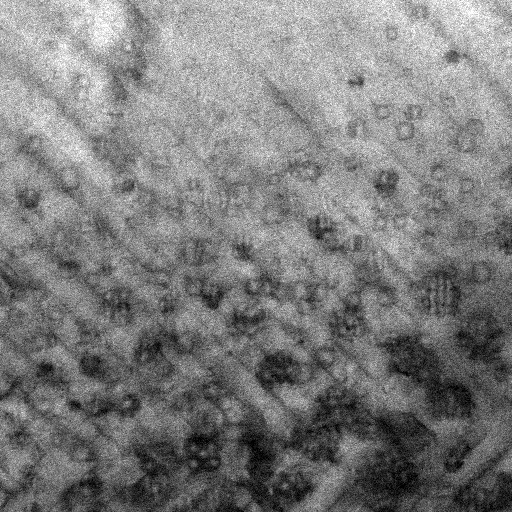y2o3_appleGreen: (53, 255, 89, 282), (77, 353, 104, 379), (438, 45, 463, 68), (110, 175, 137, 196), (33, 360, 57, 381), (64, 398, 87, 414), (99, 110, 127, 118)
y2o3_green: (307, 382, 381, 445), (355, 447, 426, 508), (374, 331, 443, 391), (275, 414, 345, 467), (408, 261, 463, 322), (452, 308, 507, 366), (252, 468, 316, 512), (423, 373, 476, 425), (89, 126, 143, 173), (114, 473, 177, 512), (128, 436, 182, 481), (458, 471, 512, 512), (252, 349, 301, 392), (219, 435, 258, 487), (180, 429, 222, 477), (95, 287, 138, 328), (413, 475, 460, 512), (1, 384, 36, 431), (326, 309, 373, 343), (225, 303, 271, 335), (443, 433, 476, 477), (413, 181, 452, 217), (178, 234, 217, 266), (130, 333, 163, 369), (72, 322, 110, 353), (352, 257, 385, 292), (224, 179, 253, 218), (488, 208, 512, 255), (302, 209, 338, 240), (34, 389, 66, 422), (168, 388, 205, 416), (285, 156, 323, 183), (344, 231, 371, 267), (369, 168, 398, 199), (219, 396, 248, 427), (104, 74, 131, 105), (229, 234, 259, 260), (155, 289, 180, 318), (107, 65, 143, 85), (69, 71, 92, 102), (117, 204, 141, 232), (377, 193, 404, 214), (66, 12, 88, 35), (118, 34, 138, 55)
y2o3_peppermintGreen: (199, 274, 240, 310), (71, 466, 108, 501), (257, 196, 293, 227), (42, 220, 71, 252), (67, 438, 99, 466), (198, 376, 228, 405), (9, 290, 35, 323), (114, 393, 143, 422), (172, 327, 199, 357), (309, 342, 338, 369), (178, 272, 207, 299), (53, 166, 81, 193), (46, 423, 70, 454), (4, 429, 36, 452), (469, 258, 494, 286), (342, 287, 366, 315), (494, 162, 512, 199), (143, 152, 174, 173), (452, 129, 478, 154), (15, 187, 42, 211), (375, 284, 399, 310), (455, 216, 479, 242), (16, 134, 43, 157), (271, 278, 292, 307), (345, 115, 368, 141), (342, 150, 366, 174), (44, 9, 67, 34), (407, 4, 432, 24), (257, 272, 276, 298), (394, 119, 415, 142), (428, 161, 449, 184), (402, 101, 423, 123), (37, 290, 57, 313), (6, 241, 29, 261), (312, 280, 329, 306), (292, 279, 312, 301), (464, 117, 486, 137), (208, 408, 227, 431), (373, 103, 393, 124), (459, 174, 478, 196), (243, 274, 261, 297), (437, 93, 458, 111), (296, 298, 317, 316), (392, 209, 410, 230), (371, 212, 389, 232), (54, 36, 73, 54), (385, 24, 401, 42), (487, 147, 501, 167)
